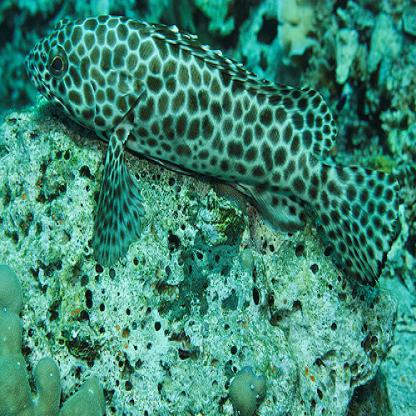Serranidae -Groupers-: (22, 11, 409, 293)
